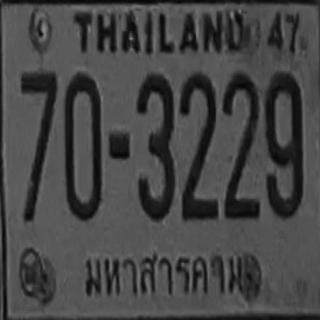N00: (64, 72, 101, 221)
N02: (179, 74, 217, 220), (222, 72, 259, 219), (179, 72, 217, 207), (221, 71, 258, 208)
N03: (136, 73, 174, 221)
N07: (20, 71, 57, 220), (20, 71, 57, 175), (20, 70, 57, 164)
N09: (263, 71, 303, 218)
P25: (79, 239, 252, 307)
